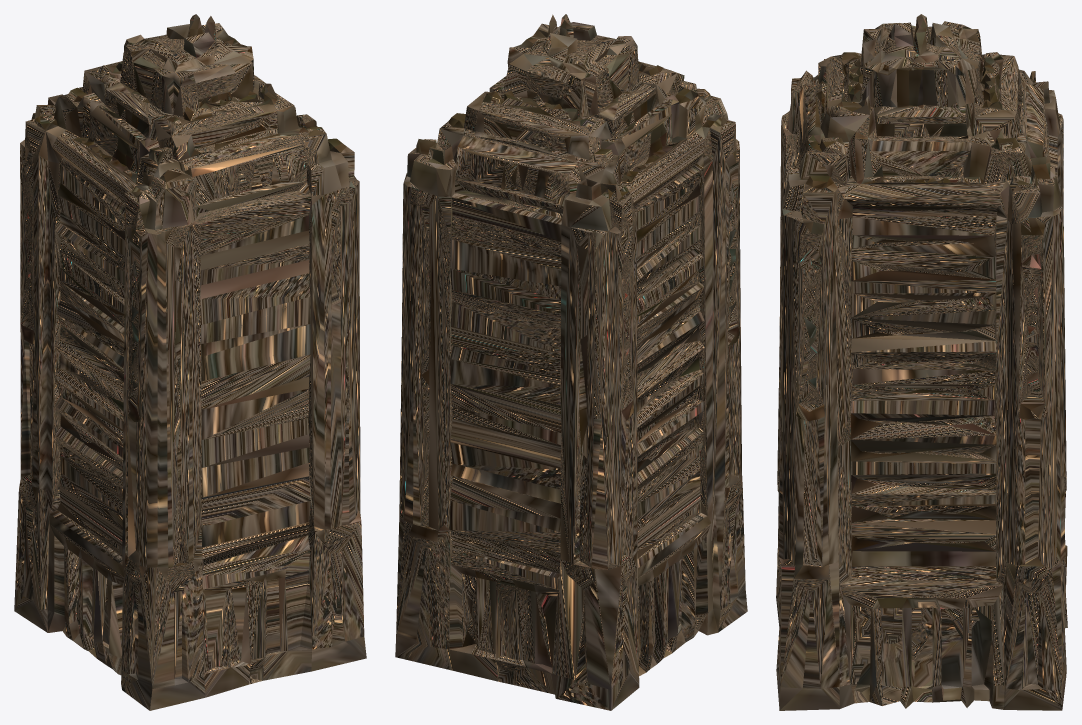
File: r01_far.glb
3 renders of one model, left to right at view 1: azimuth 30°, elevation 25°; view 2: azimuth 150°, elevation 25°; view 3: azimuth 270°, elevation 25°, orthographic. The views are drawn at different scales.
Parts seen in each view (by area): view 1: r01_far; view 2: r01_far; view 3: r01_far.
Part boxes in pixels (box(x1,y1,x2,y2)): r01_far: box(14, 14, 366, 710); r01_far: box(395, 14, 747, 710); r01_far: box(776, 14, 1067, 710).
Size of the model in its own units: 60.41 by 160 by 65.56.
Materials: 1 (1 with a texture image).
